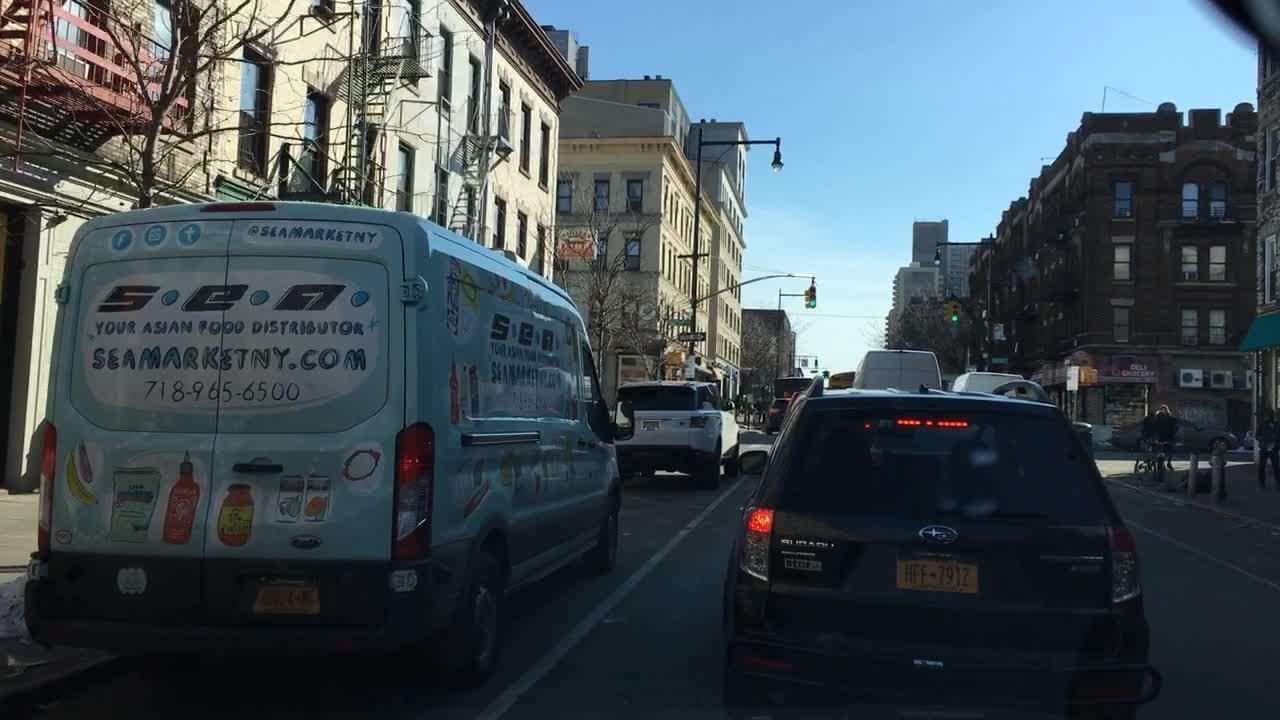ford: (286, 531, 325, 554)
subaru: (905, 513, 980, 555)
